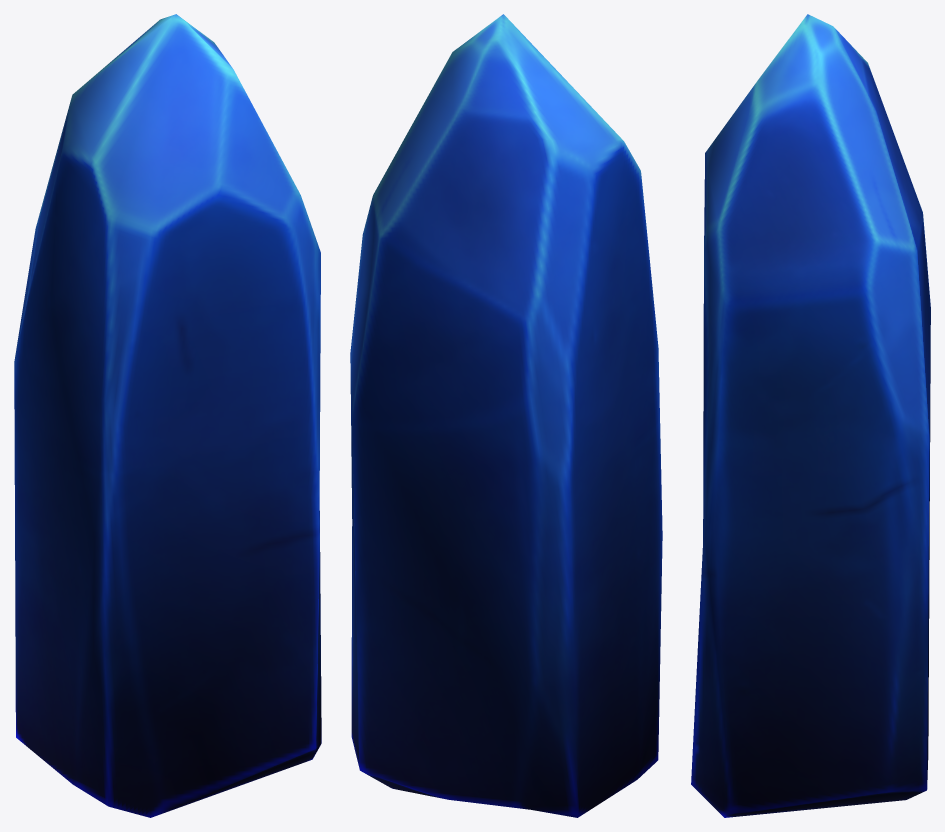
File: SM_Gem_Sapphire_004.fbx
3 views of the same model, side by side, from view 1: azimuth 30°, elevation 25°; view 2: azimuth 150°, elevation 25°; view 3: azimuth 270°, elevation 25° (orthographic). The views are drawn at different scales.
Visible parts, largest first — view 1: SM_Gem_Sapphire_004; view 2: SM_Gem_Sapphire_004; view 3: SM_Gem_Sapphire_004.
Boxes of the visible parts, x1,y1,x2,y2 form: SM_Gem_Sapphire_004: (14, 14, 321, 817); SM_Gem_Sapphire_004: (350, 14, 662, 817); SM_Gem_Sapphire_004: (691, 14, 930, 817).
Bounding box in the file's own units: 13.31 × 41.77 × 11.87.
